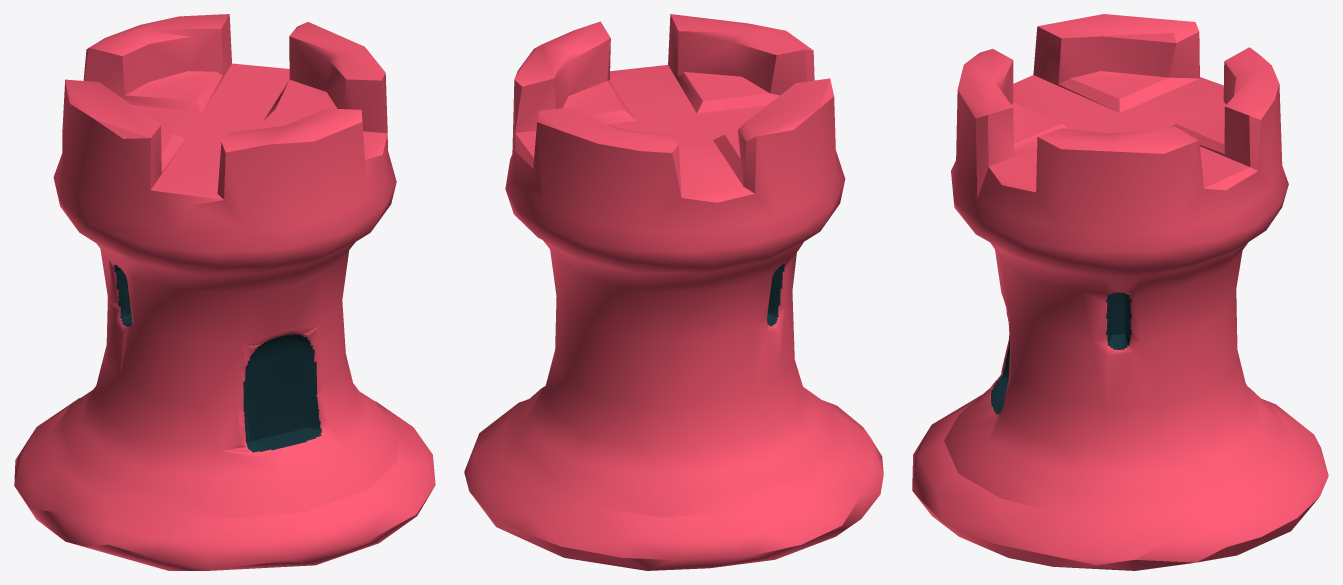
Rendered from rook-low.glb.
3 views of the same model, side by side, from view 1: azimuth 30°, elevation 25°; view 2: azimuth 150°, elevation 25°; view 3: azimuth 270°, elevation 25° (orthographic).
Parts seen in each view (by area): view 1: rook-low; view 2: rook-low; view 3: rook-low.
Boxes of the visible parts, left/top/right/bottom form: rook-low: left=14, top=14, right=435, bottom=570; rook-low: left=464, top=14, right=883, bottom=570; rook-low: left=912, top=14, right=1328, bottom=570.
Size of the model in its own units: 0.8735 by 0.9419 by 0.8707.
